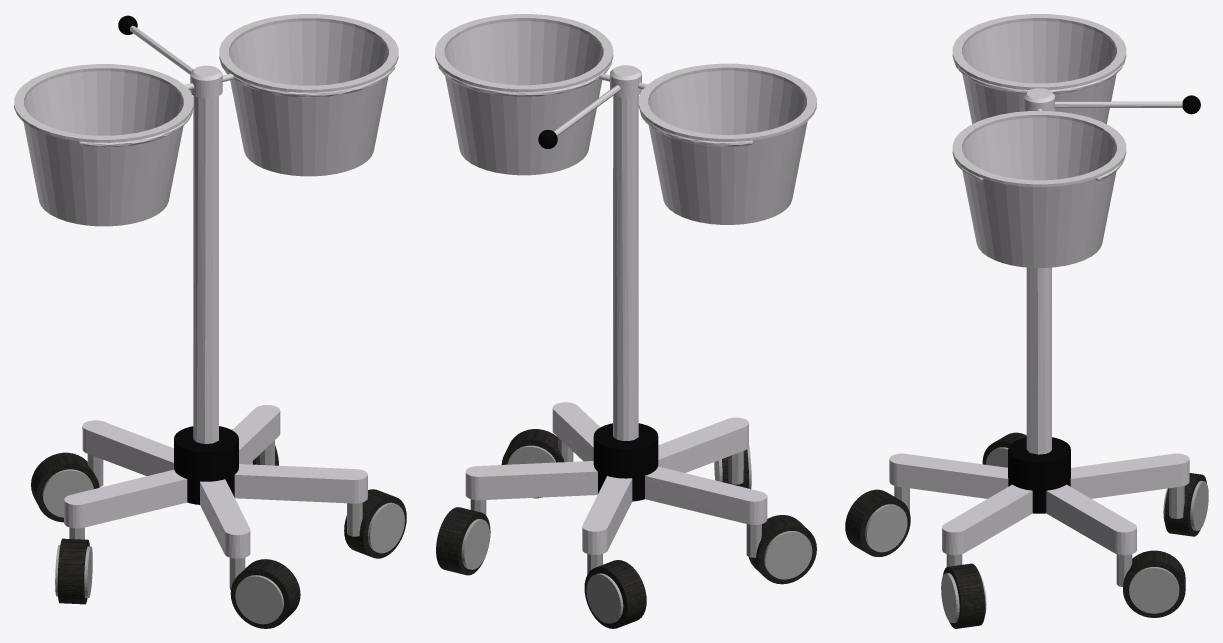
File: Schalenständer doppelt.fbx
The picture shows the model from 3 angles, left to right: view 1: azimuth 30°, elevation 25°; view 2: azimuth 150°, elevation 25°; view 3: azimuth 270°, elevation 25°; orthographic projection. The views are drawn at different scales.
Parts seen in each view (by area): view 1: Metal - Stainless Steel, Farbe, grau, Asphalt, Farbe, schwarz; view 2: Metal - Stainless Steel, Farbe, grau, Asphalt, Farbe, schwarz; view 3: Metal - Stainless Steel, Farbe, grau, Asphalt, Farbe, schwarz.
Boxes of the visible parts, bbox=[...] form: Metal - Stainless Steel: bbox=[14, 14, 398, 558]; Farbe, grau: bbox=[42, 440, 404, 624]; Asphalt: bbox=[31, 429, 406, 628]; Farbe, schwarz: bbox=[118, 15, 238, 504]; Metal - Stainless Steel: bbox=[435, 14, 816, 554]; Farbe, grau: bbox=[461, 437, 812, 623]; Asphalt: bbox=[436, 429, 816, 628]; Farbe, schwarz: bbox=[538, 129, 658, 501]; Metal - Stainless Steel: bbox=[889, 14, 1189, 555]; Farbe, grau: bbox=[865, 447, 1208, 623]; Asphalt: bbox=[845, 432, 1206, 628]; Farbe, schwarz: bbox=[1008, 95, 1200, 513].
Size of the model in its own units: 64.16 by 57.89 by 82.54.
Materials: 5 (1 with a texture image).
